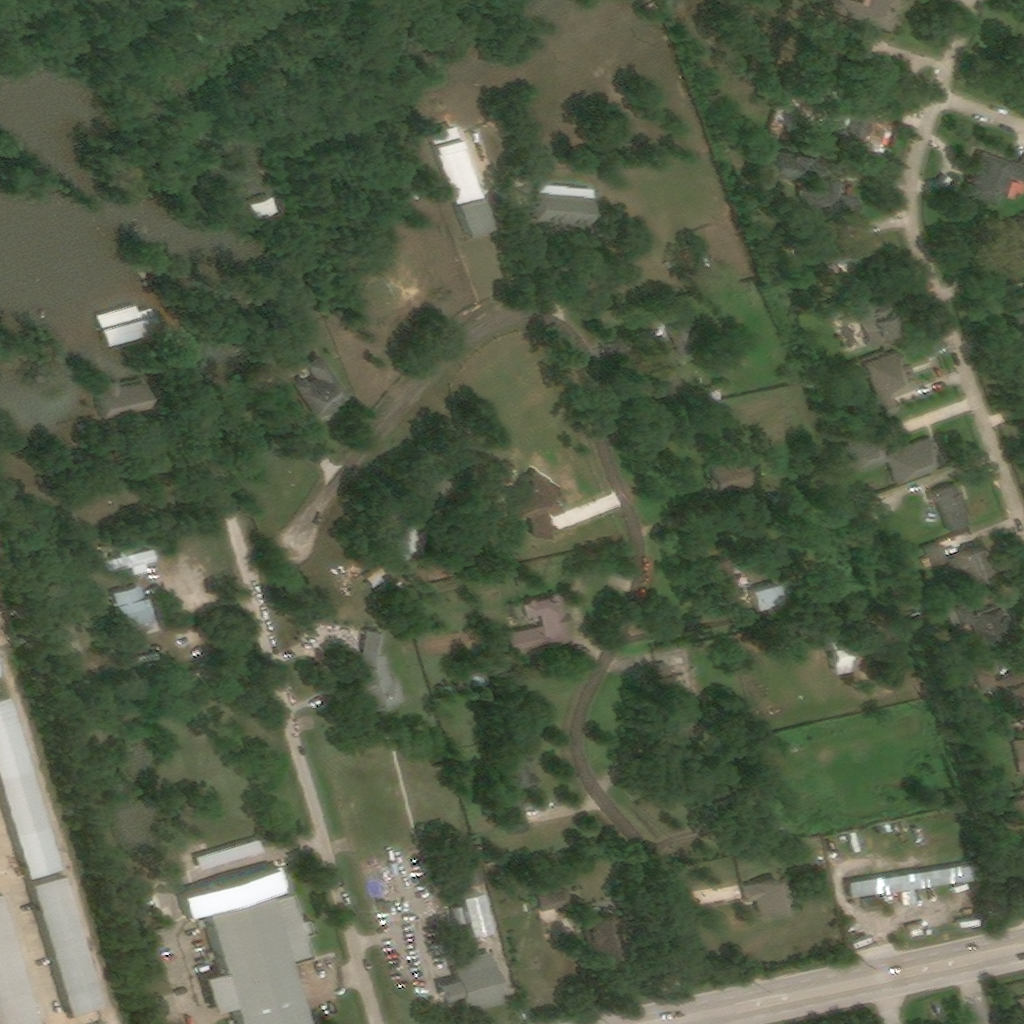destroyed: (865, 898, 886, 915), (541, 665, 557, 678), (911, 892, 922, 907), (956, 886, 971, 896), (442, 687, 453, 700)
major_damage: (96, 377, 152, 424), (102, 319, 141, 347), (98, 307, 136, 328), (249, 194, 276, 217)
minor_damage: (435, 135, 495, 240), (429, 124, 457, 145)
no_damage: (181, 864, 311, 1023), (27, 869, 101, 1018), (0, 693, 58, 877), (843, 435, 942, 488), (0, 894, 39, 1023), (848, 863, 974, 902), (353, 630, 406, 719), (439, 953, 506, 1016), (507, 595, 574, 655), (510, 469, 566, 540), (291, 352, 349, 419), (866, 353, 922, 420), (948, 605, 1017, 654), (968, 152, 1022, 209), (829, 0, 907, 37), (652, 320, 693, 387), (535, 183, 594, 229), (857, 298, 904, 353), (493, 739, 538, 792), (930, 484, 973, 539), (799, 182, 859, 220), (823, 100, 878, 141), (583, 908, 624, 962), (704, 557, 744, 609), (197, 841, 264, 872), (743, 877, 788, 921), (390, 524, 434, 569), (453, 889, 491, 939), (100, 546, 158, 578), (950, 544, 990, 589), (119, 598, 159, 638), (861, 54, 898, 97), (772, 150, 820, 180), (499, 794, 529, 837), (828, 632, 852, 678), (710, 456, 748, 483), (538, 888, 573, 914), (754, 582, 782, 611), (975, 668, 1006, 693), (924, 544, 949, 573), (852, 28, 876, 55), (114, 586, 143, 607), (463, 865, 486, 890), (367, 568, 387, 588), (1004, 182, 1022, 204), (131, 652, 156, 665), (467, 672, 485, 690), (493, 667, 509, 680), (513, 605, 525, 622), (960, 894, 974, 906), (382, 904, 393, 919), (367, 867, 382, 876), (371, 874, 384, 884)
unclassified: (658, 663, 692, 726), (978, 222, 1022, 268), (790, 779, 823, 821), (44, 625, 75, 658), (192, 664, 232, 687), (697, 387, 722, 407), (1010, 287, 1022, 328), (1009, 46, 1022, 78), (993, 905, 1012, 926), (374, 581, 386, 593)
